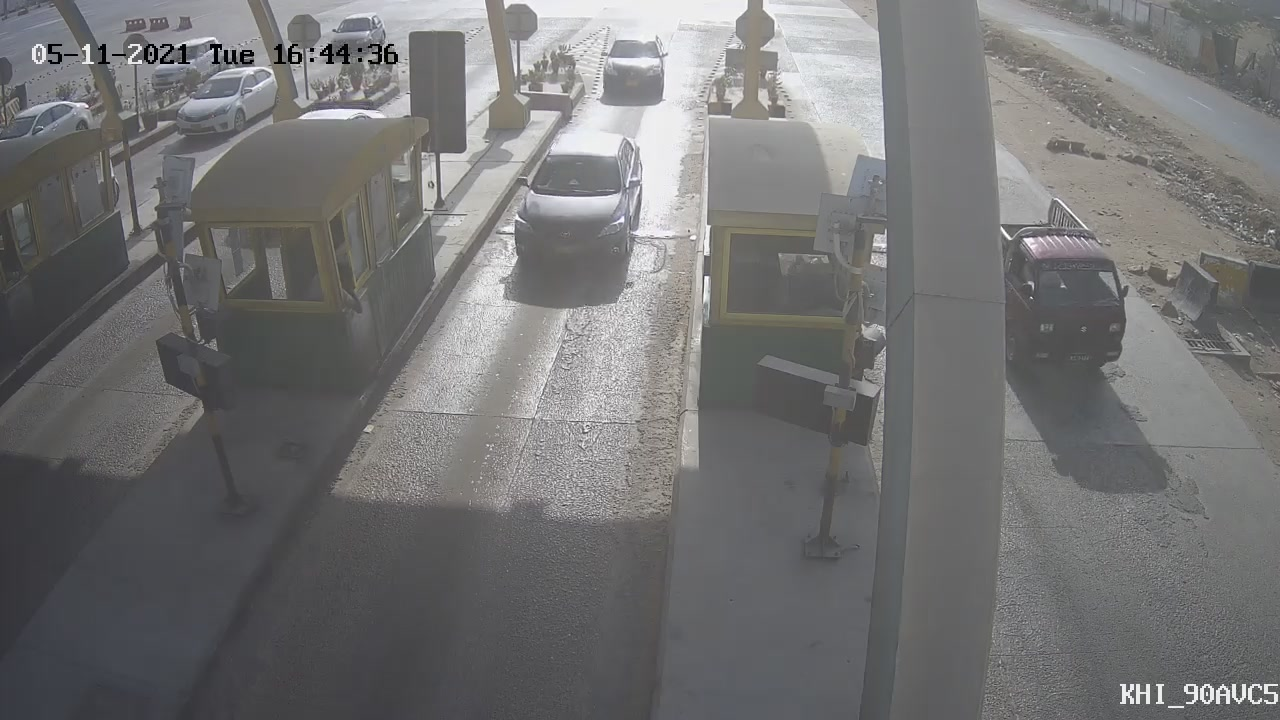F1: (491, 114, 657, 294)
